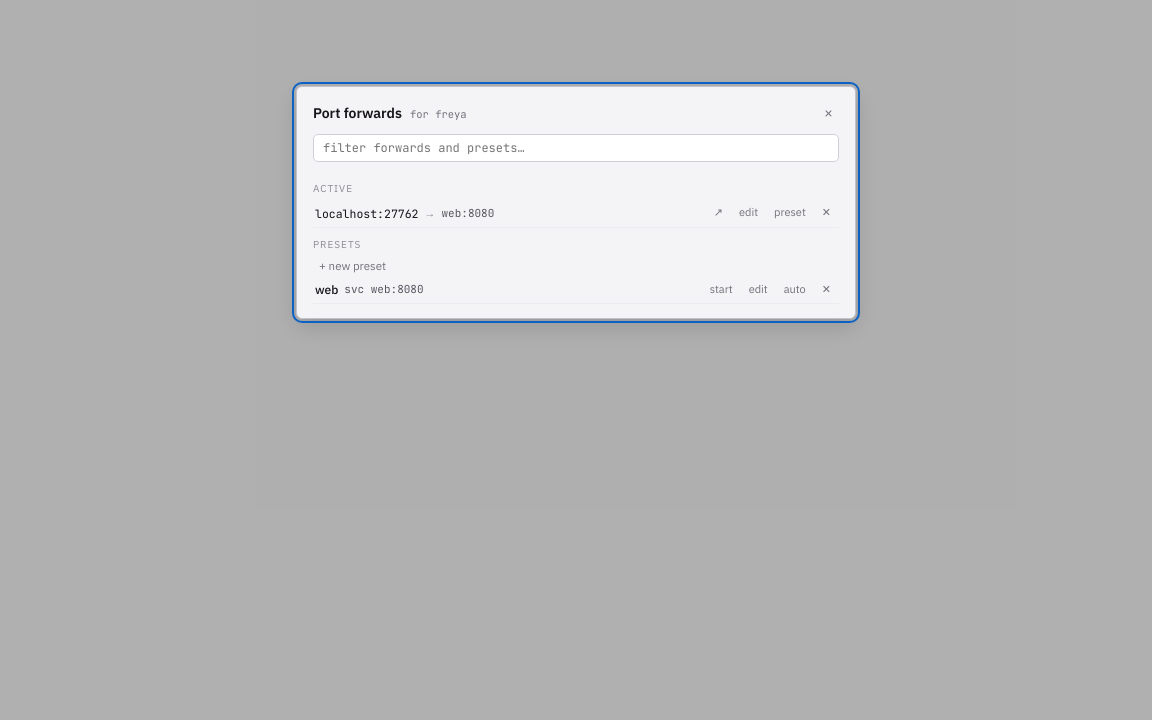
ForwardManager (B89) › editing a forward's local port restarts it with the chosen port
Click the button with aria-label "edit active forward's local port" at [749, 213], box [733,203,764,223]
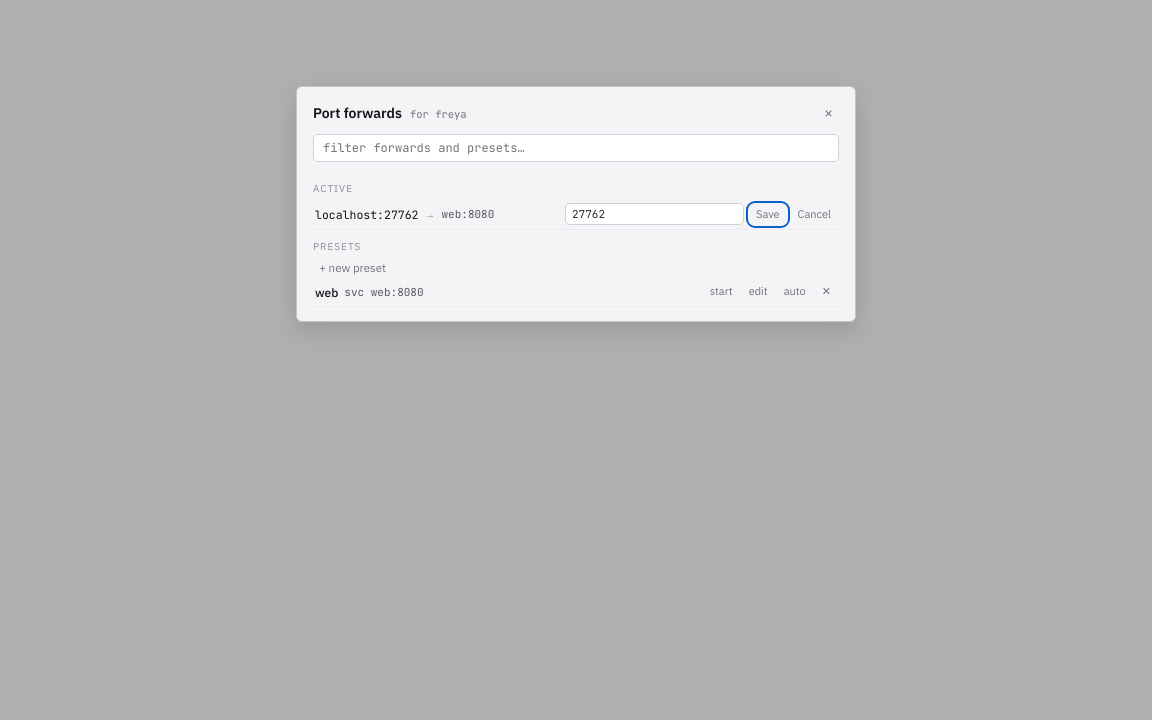
Replace the text in the field named "new local port" with "39999" at [654, 214], box [565,203,744,225]
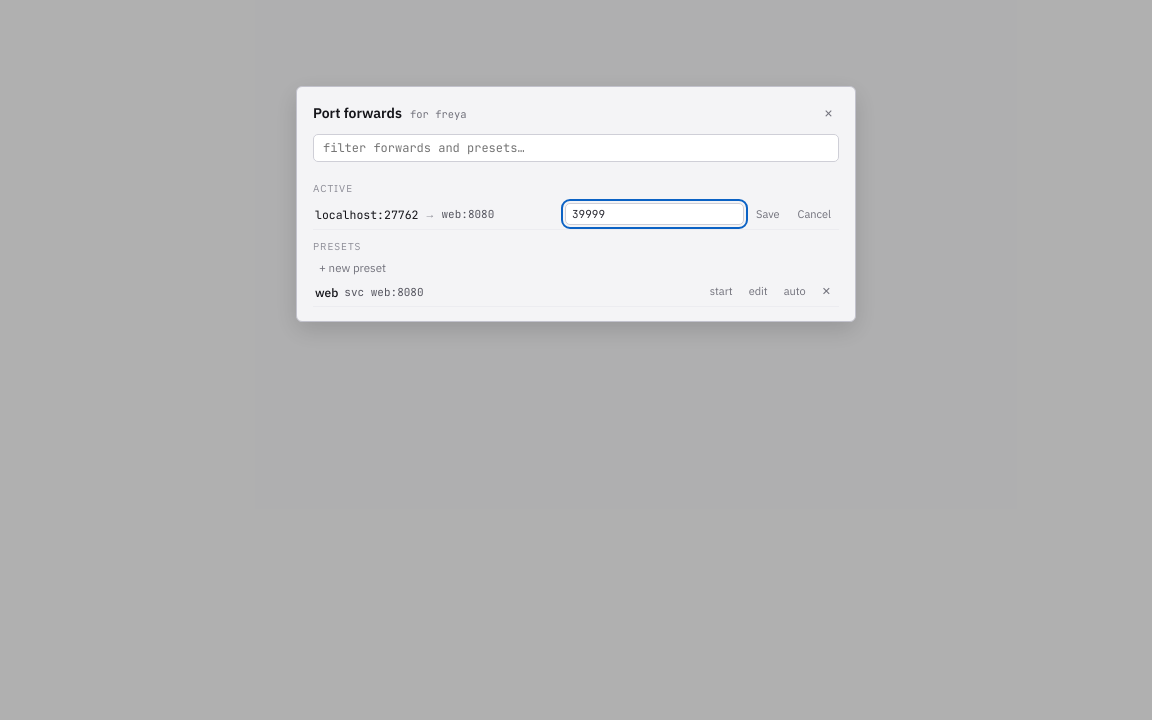
Click the button "Save" at [768, 214], box [750,205,786,224]
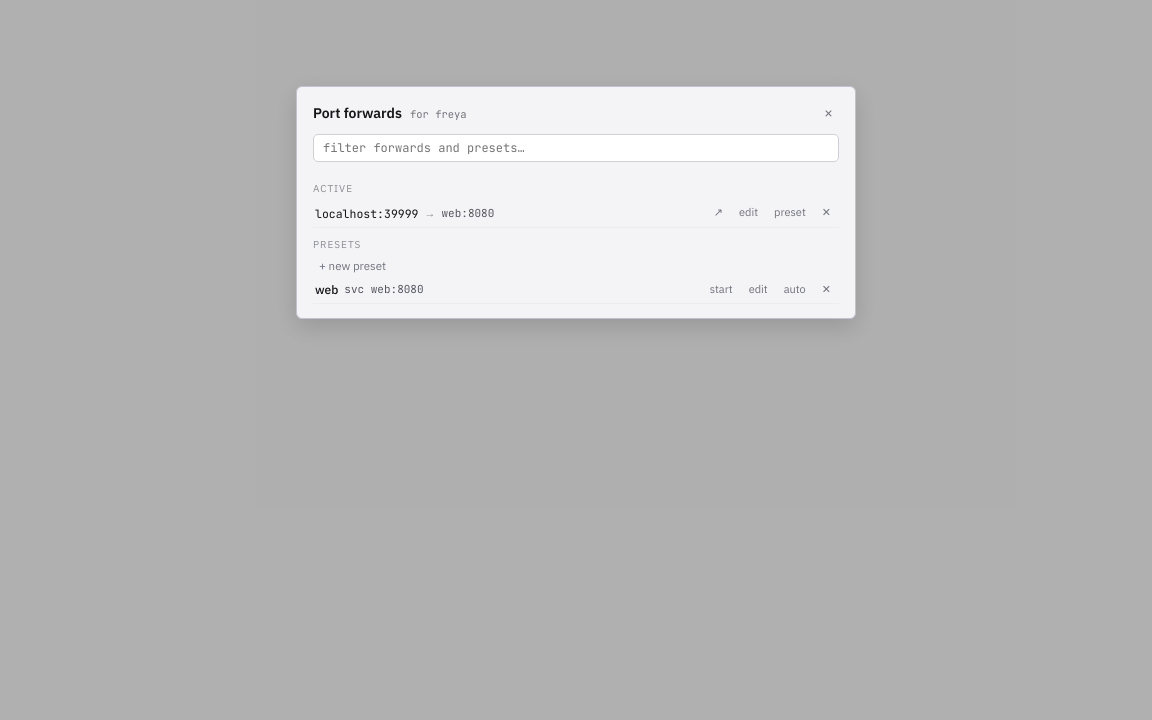
Check: the text "localhost:39999" is shown, box [315,206,418,221]
